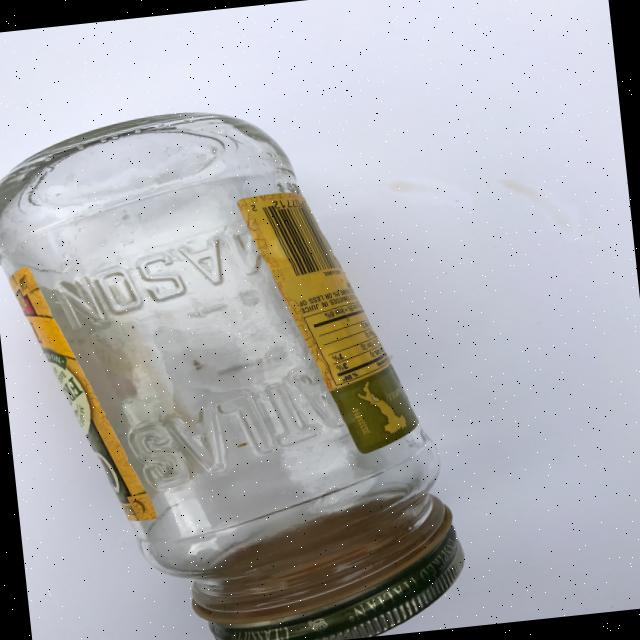glass: (0, 86, 472, 640)
